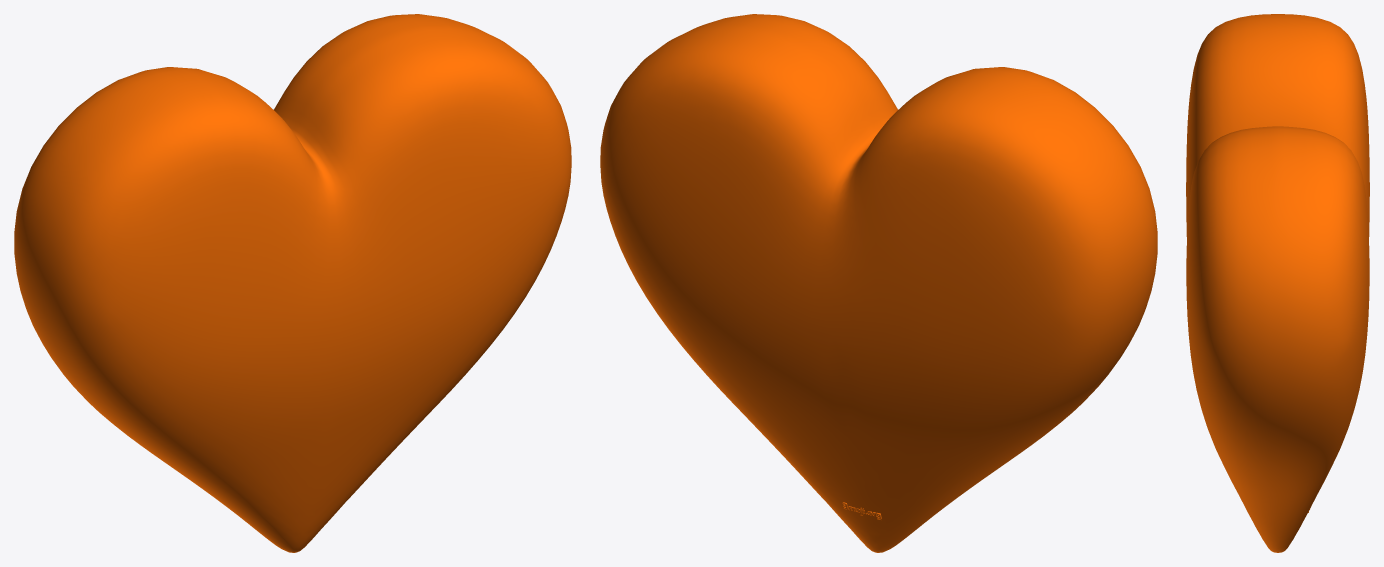
File: orange_heart.fbx
3 views of the same model, side by side, from view 1: azimuth 30°, elevation 25°; view 2: azimuth 150°, elevation 25°; view 3: azimuth 270°, elevation 25° (orthographic). The views are drawn at different scales.
Parts seen in each view (by area): view 1: hfdjkslfjkds.019; view 2: hfdjkslfjkds.019; view 3: hfdjkslfjkds.019.
Boxes of the visible parts, bbox=[...] form: hfdjkslfjkds.019: bbox=[14, 14, 571, 552]; hfdjkslfjkds.019: bbox=[600, 14, 1157, 552]; hfdjkslfjkds.019: bbox=[1186, 14, 1369, 552].
Size of the model in its own units: 186 by 168 by 59.56.
Materials: 1 (1 with a texture image).
